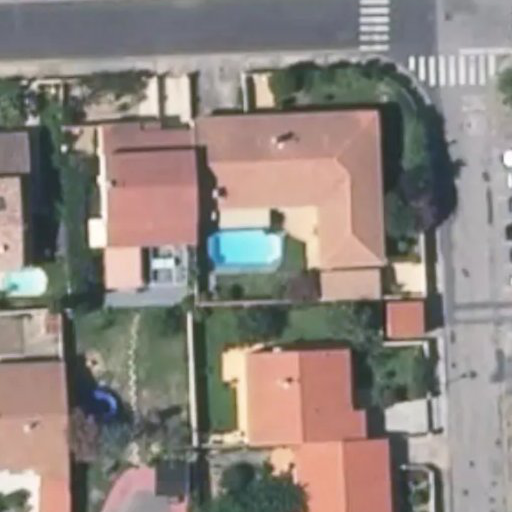pool: (218, 223, 293, 260)
